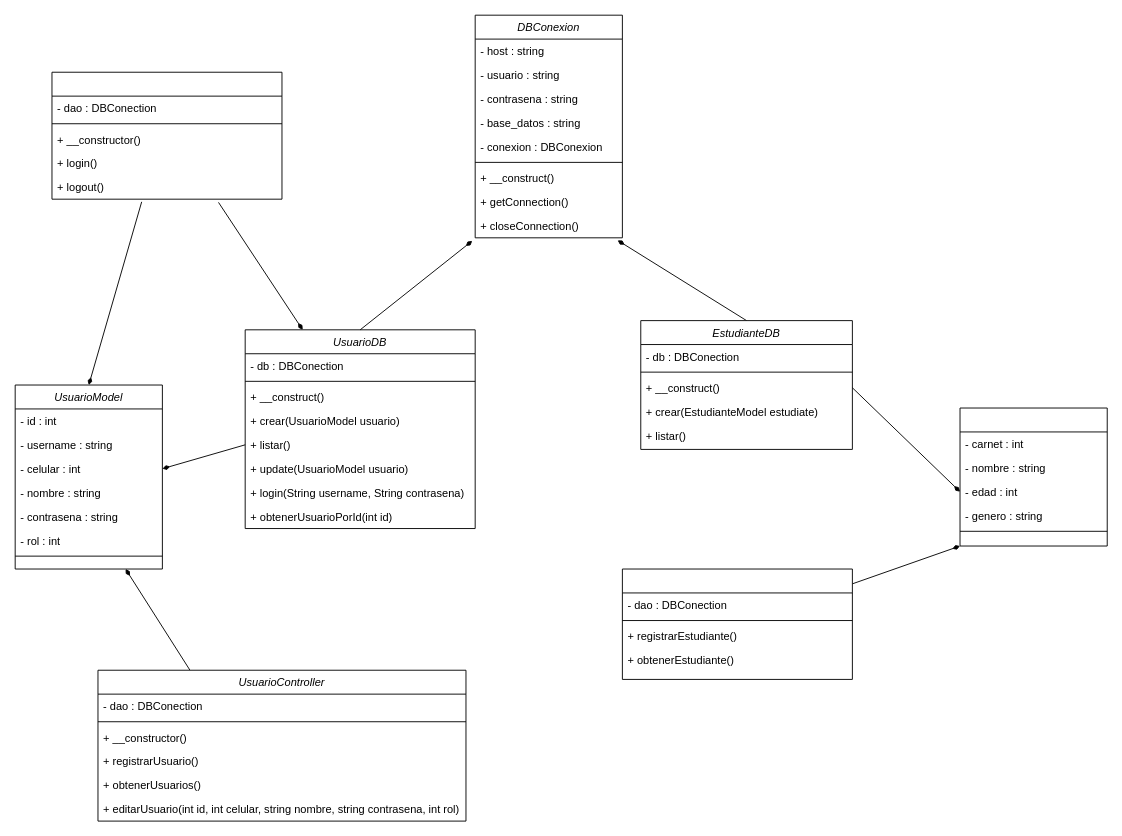
Some shapes in this 1122 by 836 pixel diagram are drawn without their labels. Each missing label, with the box of its shape:
EstudianteController: (621, 568, 852, 679)
EstudianteModel: (959, 407, 1107, 546)
LoginController: (51, 71, 282, 199)
